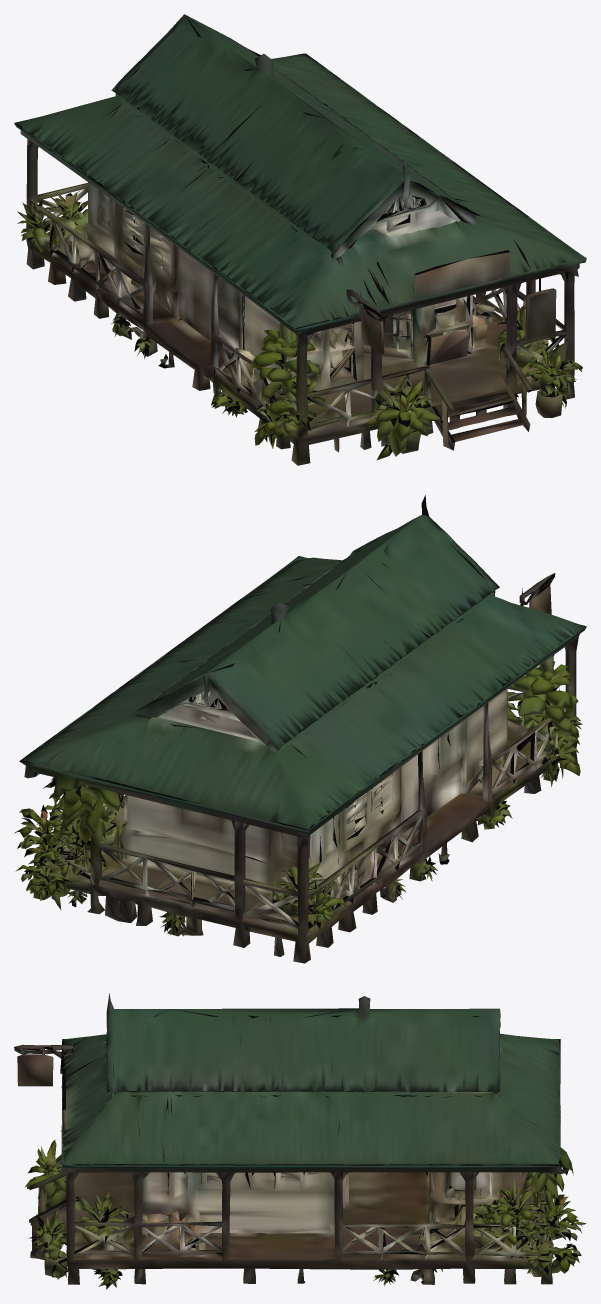
Rendered from kuranda-shop-phone.glb.
3 renders of one model, top to bottom at view 1: azimuth 30°, elevation 25°; view 2: azimuth 150°, elevation 25°; view 3: azimuth 270°, elevation 25°, orthographic. The views are drawn at different scales.
Parts seen in each view (by area): view 1: Model; view 2: Model; view 3: Model.
Part boxes in pixels (<box>): Model: <box>14,14,586,465</box>; Model: <box>14,495,586,963</box>; Model: <box>14,993,586,1289</box>.
Size of the model in its own units: 1.06 by 0.8568 by 1.89.
Materials: 1 (1 with a texture image).
